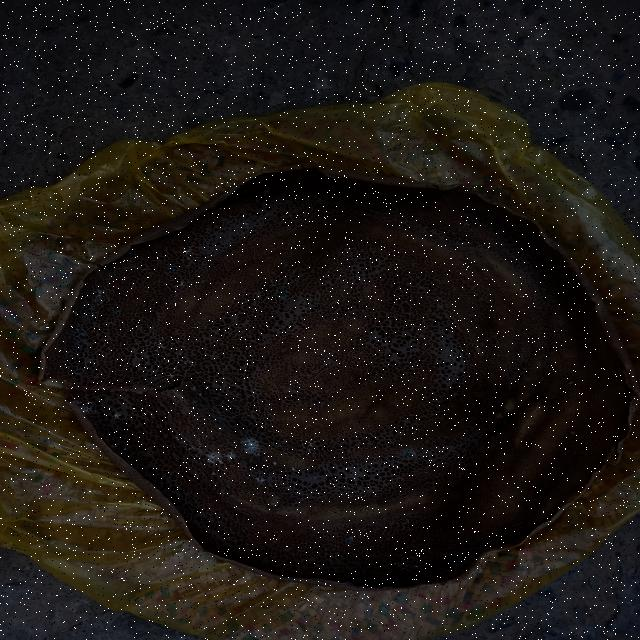injera_mold: (168, 429, 207, 457), (204, 452, 237, 476), (392, 560, 426, 579), (70, 394, 99, 416), (79, 286, 117, 302), (239, 436, 263, 456), (149, 333, 172, 353), (298, 438, 326, 454), (105, 439, 136, 452), (175, 356, 198, 371), (256, 186, 275, 202), (60, 329, 86, 340), (181, 246, 196, 256), (402, 448, 416, 458), (78, 314, 98, 321), (109, 412, 124, 420), (255, 476, 269, 484), (109, 309, 122, 317), (314, 197, 327, 205), (102, 318, 116, 325), (166, 264, 179, 271), (105, 270, 120, 276), (344, 536, 354, 544), (72, 342, 84, 348), (174, 282, 186, 288), (67, 352, 75, 360), (569, 431, 579, 437), (618, 385, 626, 392), (401, 519, 410, 525), (463, 221, 472, 227), (84, 367, 93, 372), (567, 380, 574, 386), (271, 461, 279, 466), (167, 373, 175, 378), (204, 260, 210, 266), (290, 466, 297, 471), (74, 371, 82, 374), (243, 222, 249, 225), (82, 302, 87, 305)
